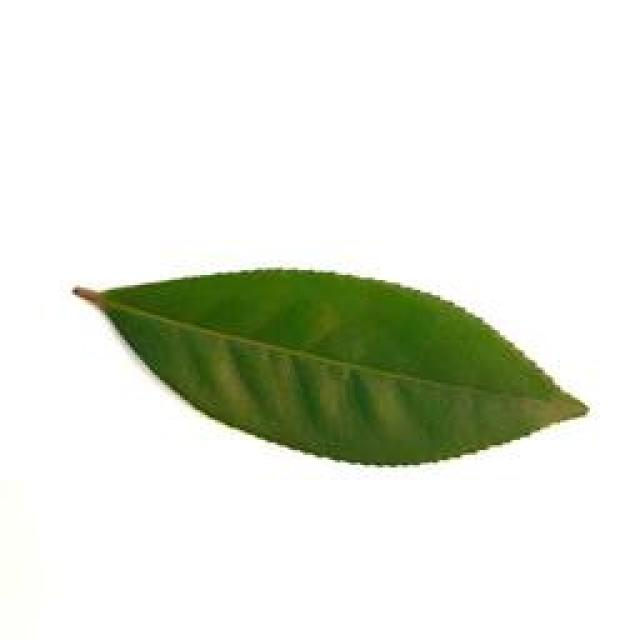Healthy: (62, 260, 606, 476)
